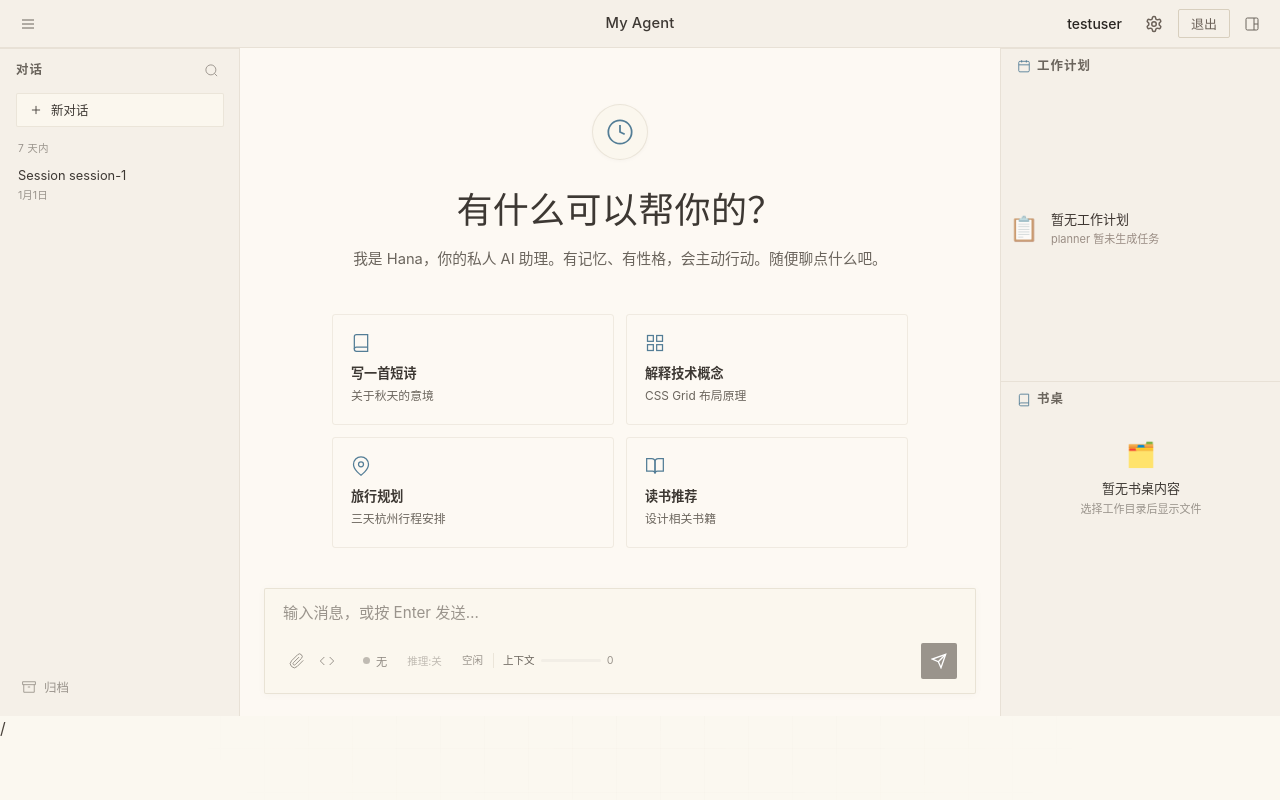
Test: ChatPage › navigates to /chat/:sessionId when creating a new session
This screenshot has width=1280, height=800.
Step 1. Click the button with test id "chat-new-button" → {"x": 120, "y": 110}, box [16,93,224,127]
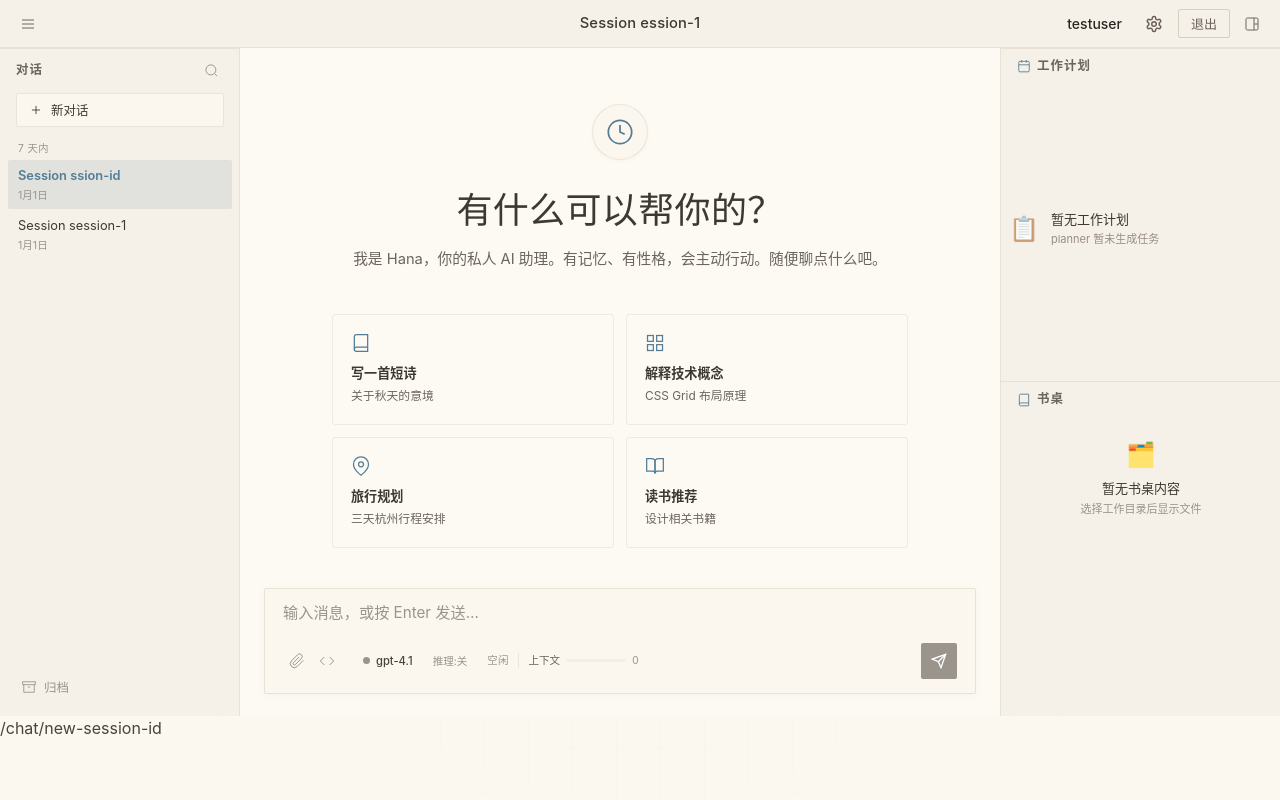
Expected: the text with test id "location-path" reads "/chat/new-session-id", [0,718,162,738]
